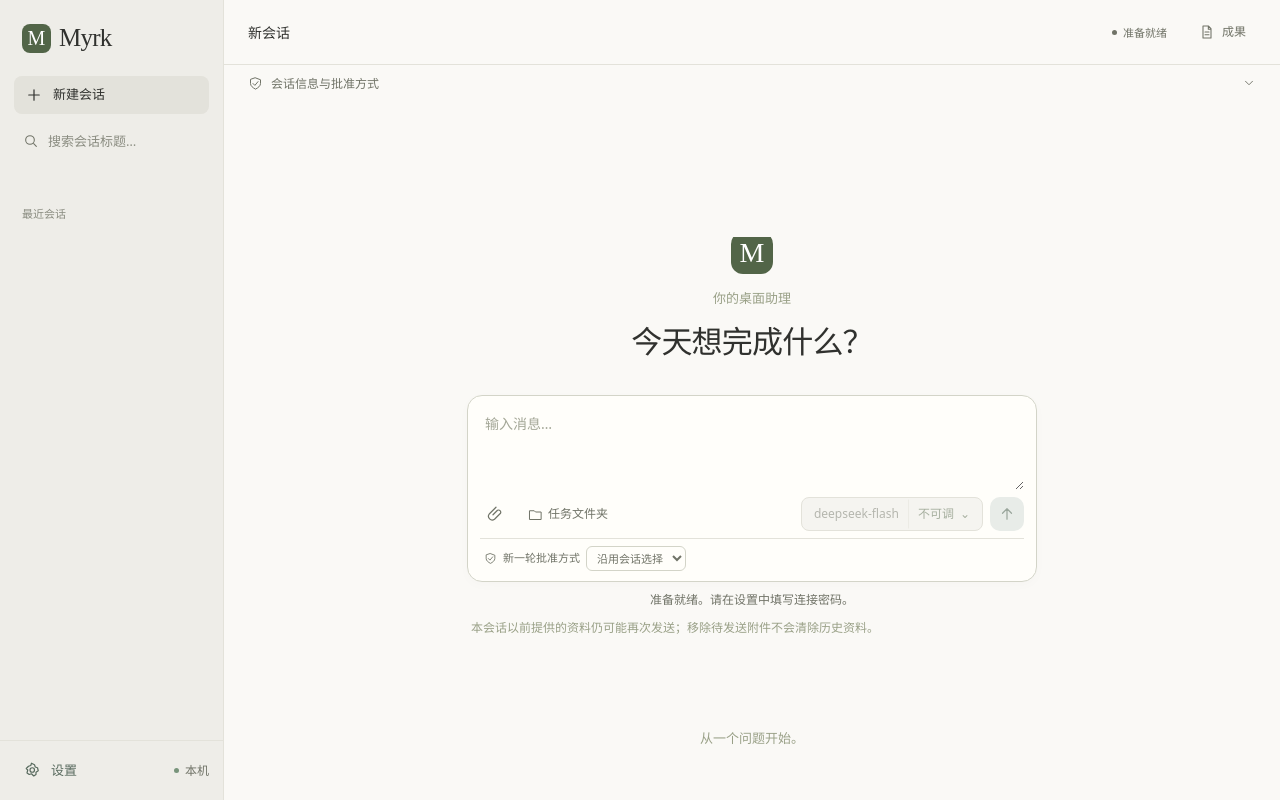
it: opening another conversation closes the previous conversation’s files
This screenshot has width=1280, height=800.
Click the button "成果": (1222, 32) left=1189, top=15, right=1256, bottom=49
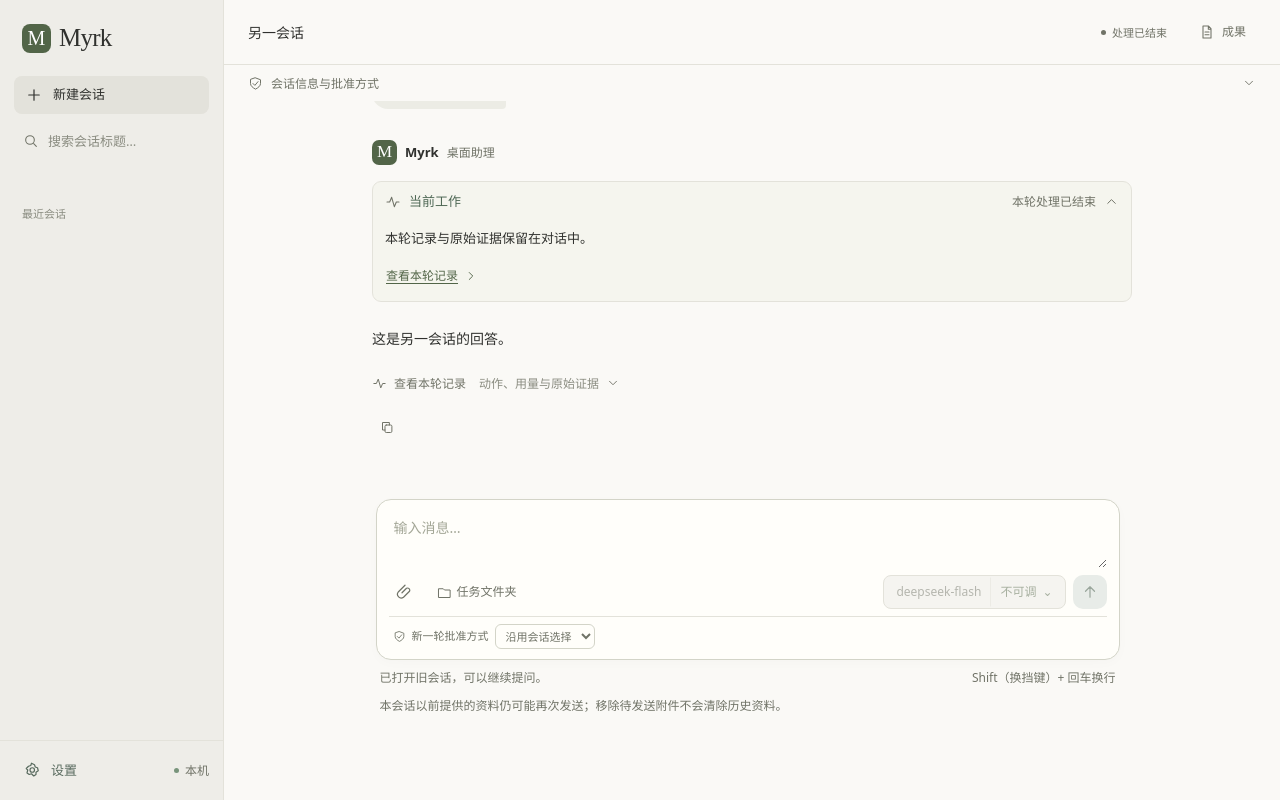
Check: the element named "对话内容" shows "这是另一会话的回答。", box left=372, top=329, right=512, bottom=348
